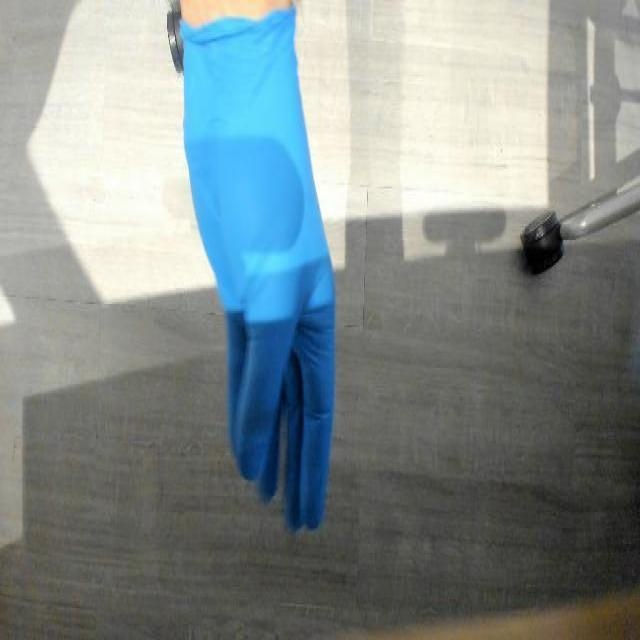Guantes: (109, 0, 400, 520)
